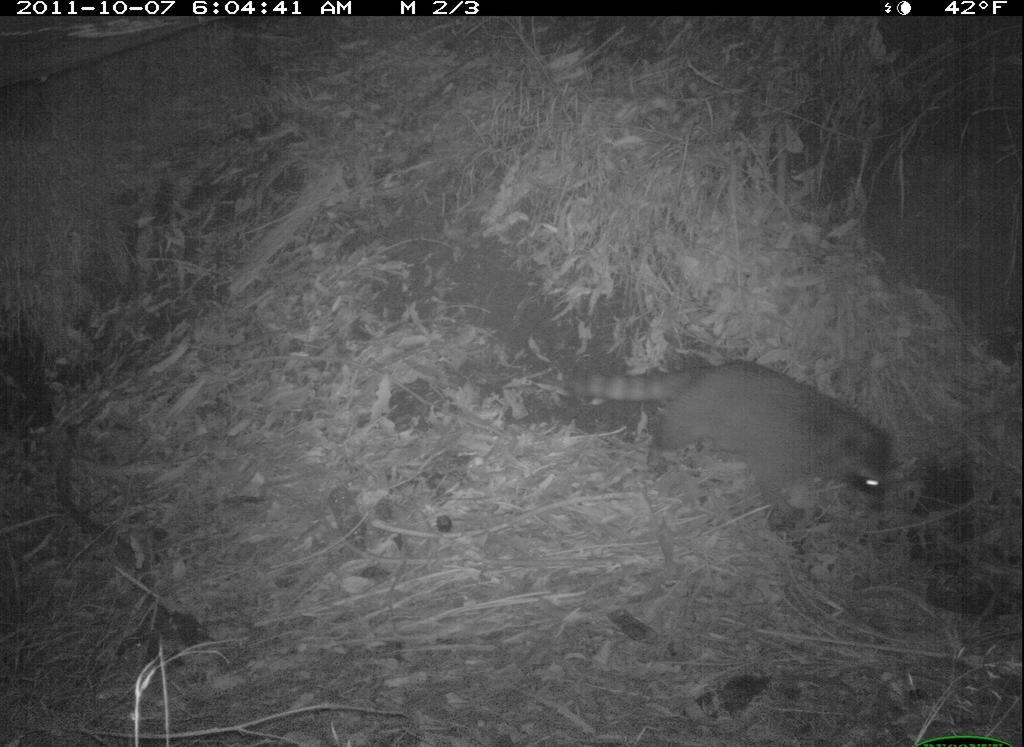raccoon: (547, 321, 917, 561)
